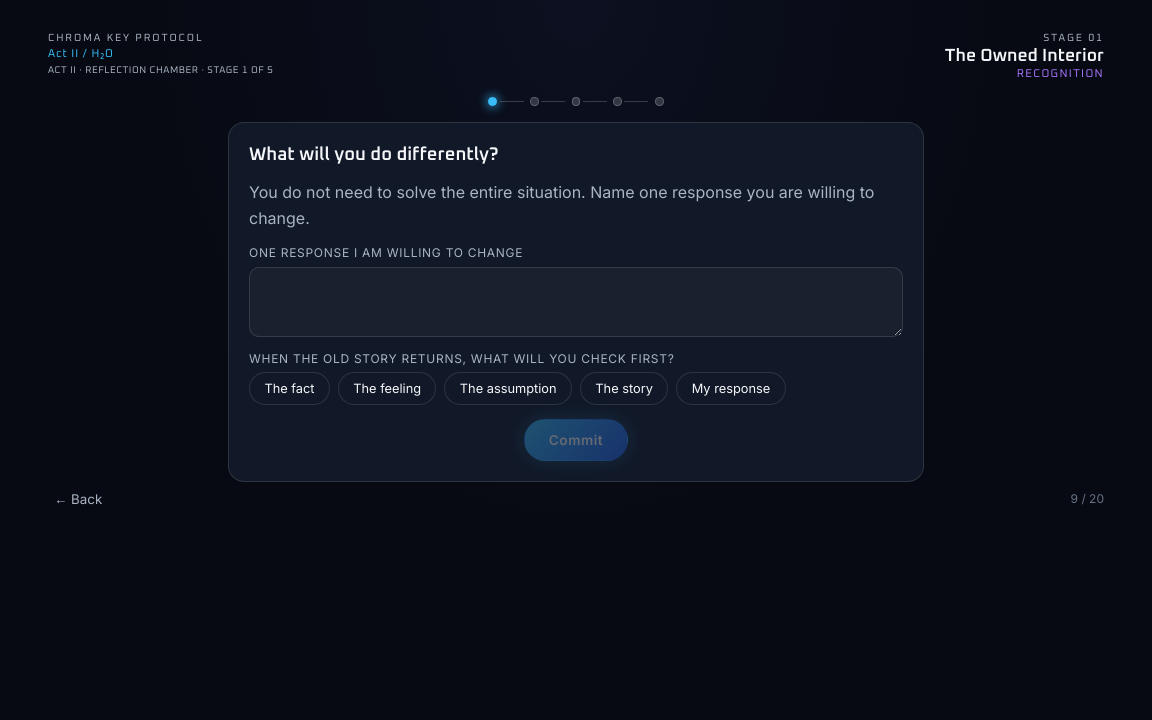
the Shadow Code arc › advances from the commitment into code discovery, not into the Light Code
Type "Ask instead of assuming." into the text box labelled "One response I am willing to change". click: (576, 302)
box: left=249, top=267, right=903, bottom=337
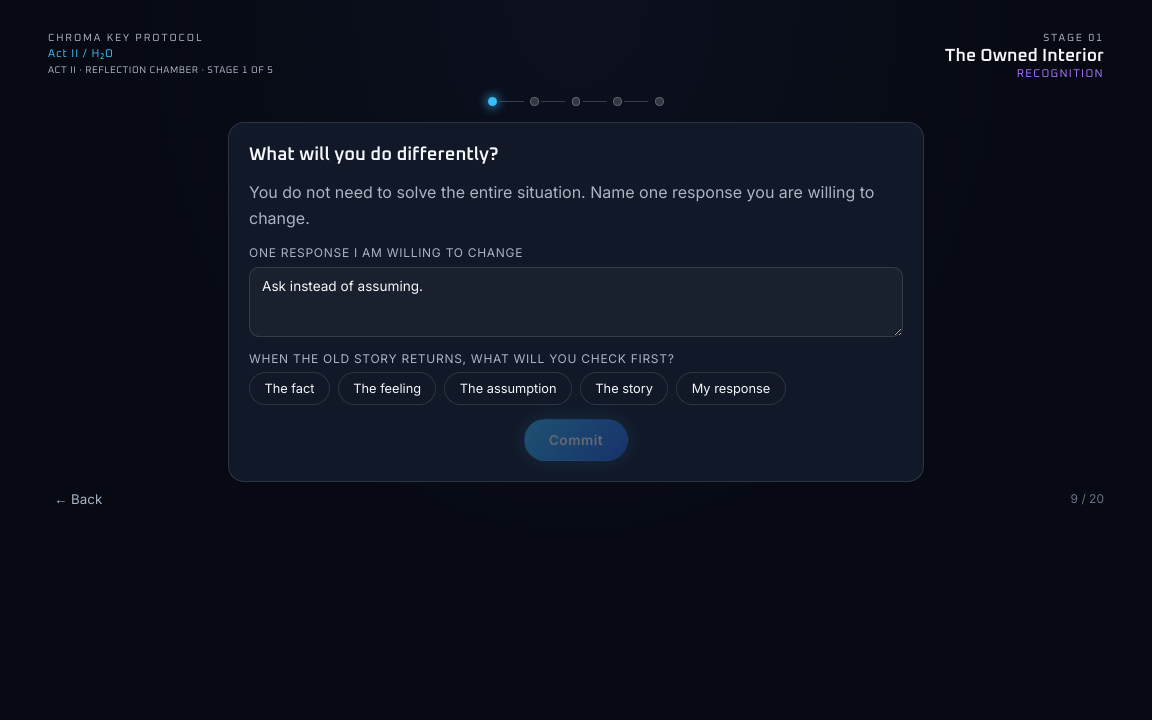
Click the button "The fact". click: (289, 389)
box: left=249, top=372, right=330, bottom=405
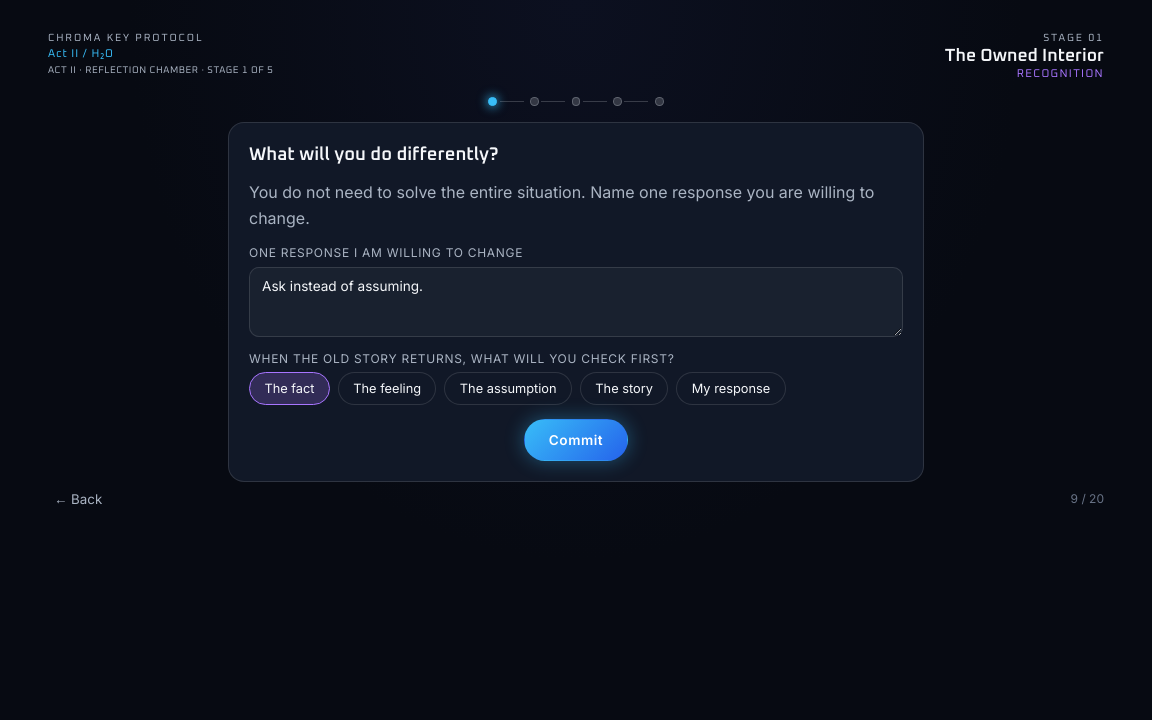
Click the button "Commit". click: (576, 440)
box: left=524, top=419, right=628, bottom=461
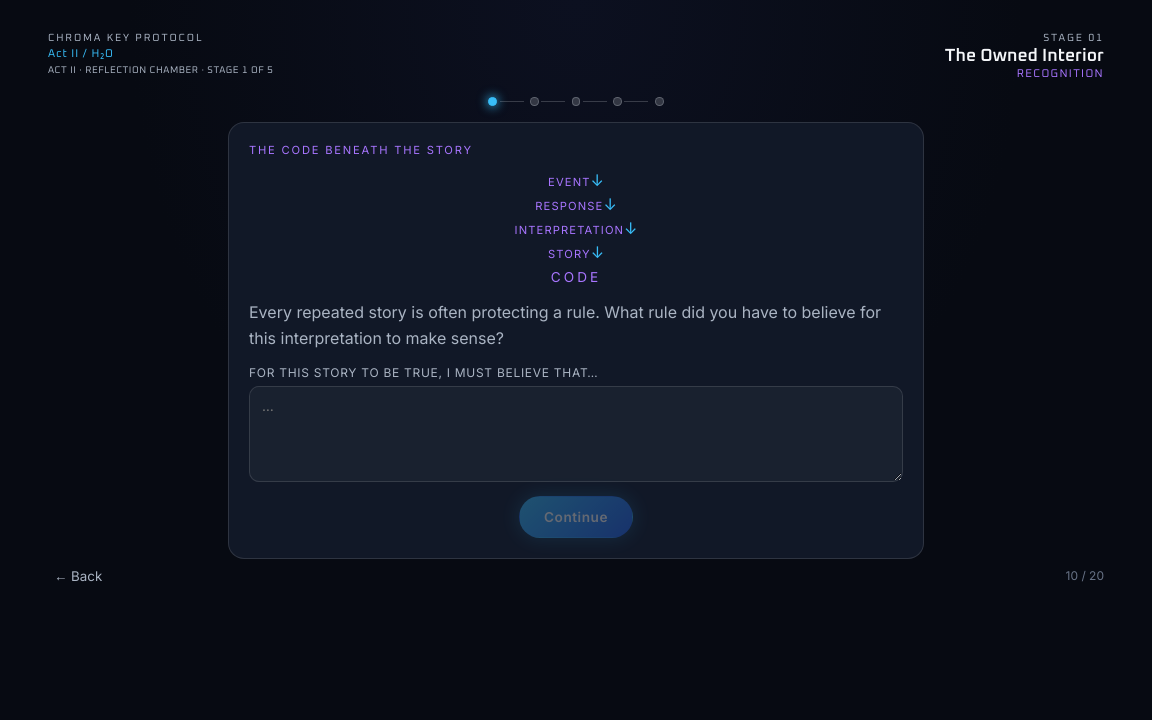
Expected: the text "The code beneath the story" is shown, left=249, top=143, right=473, bottom=157
